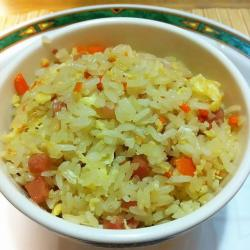rice: (13, 56, 218, 228)
